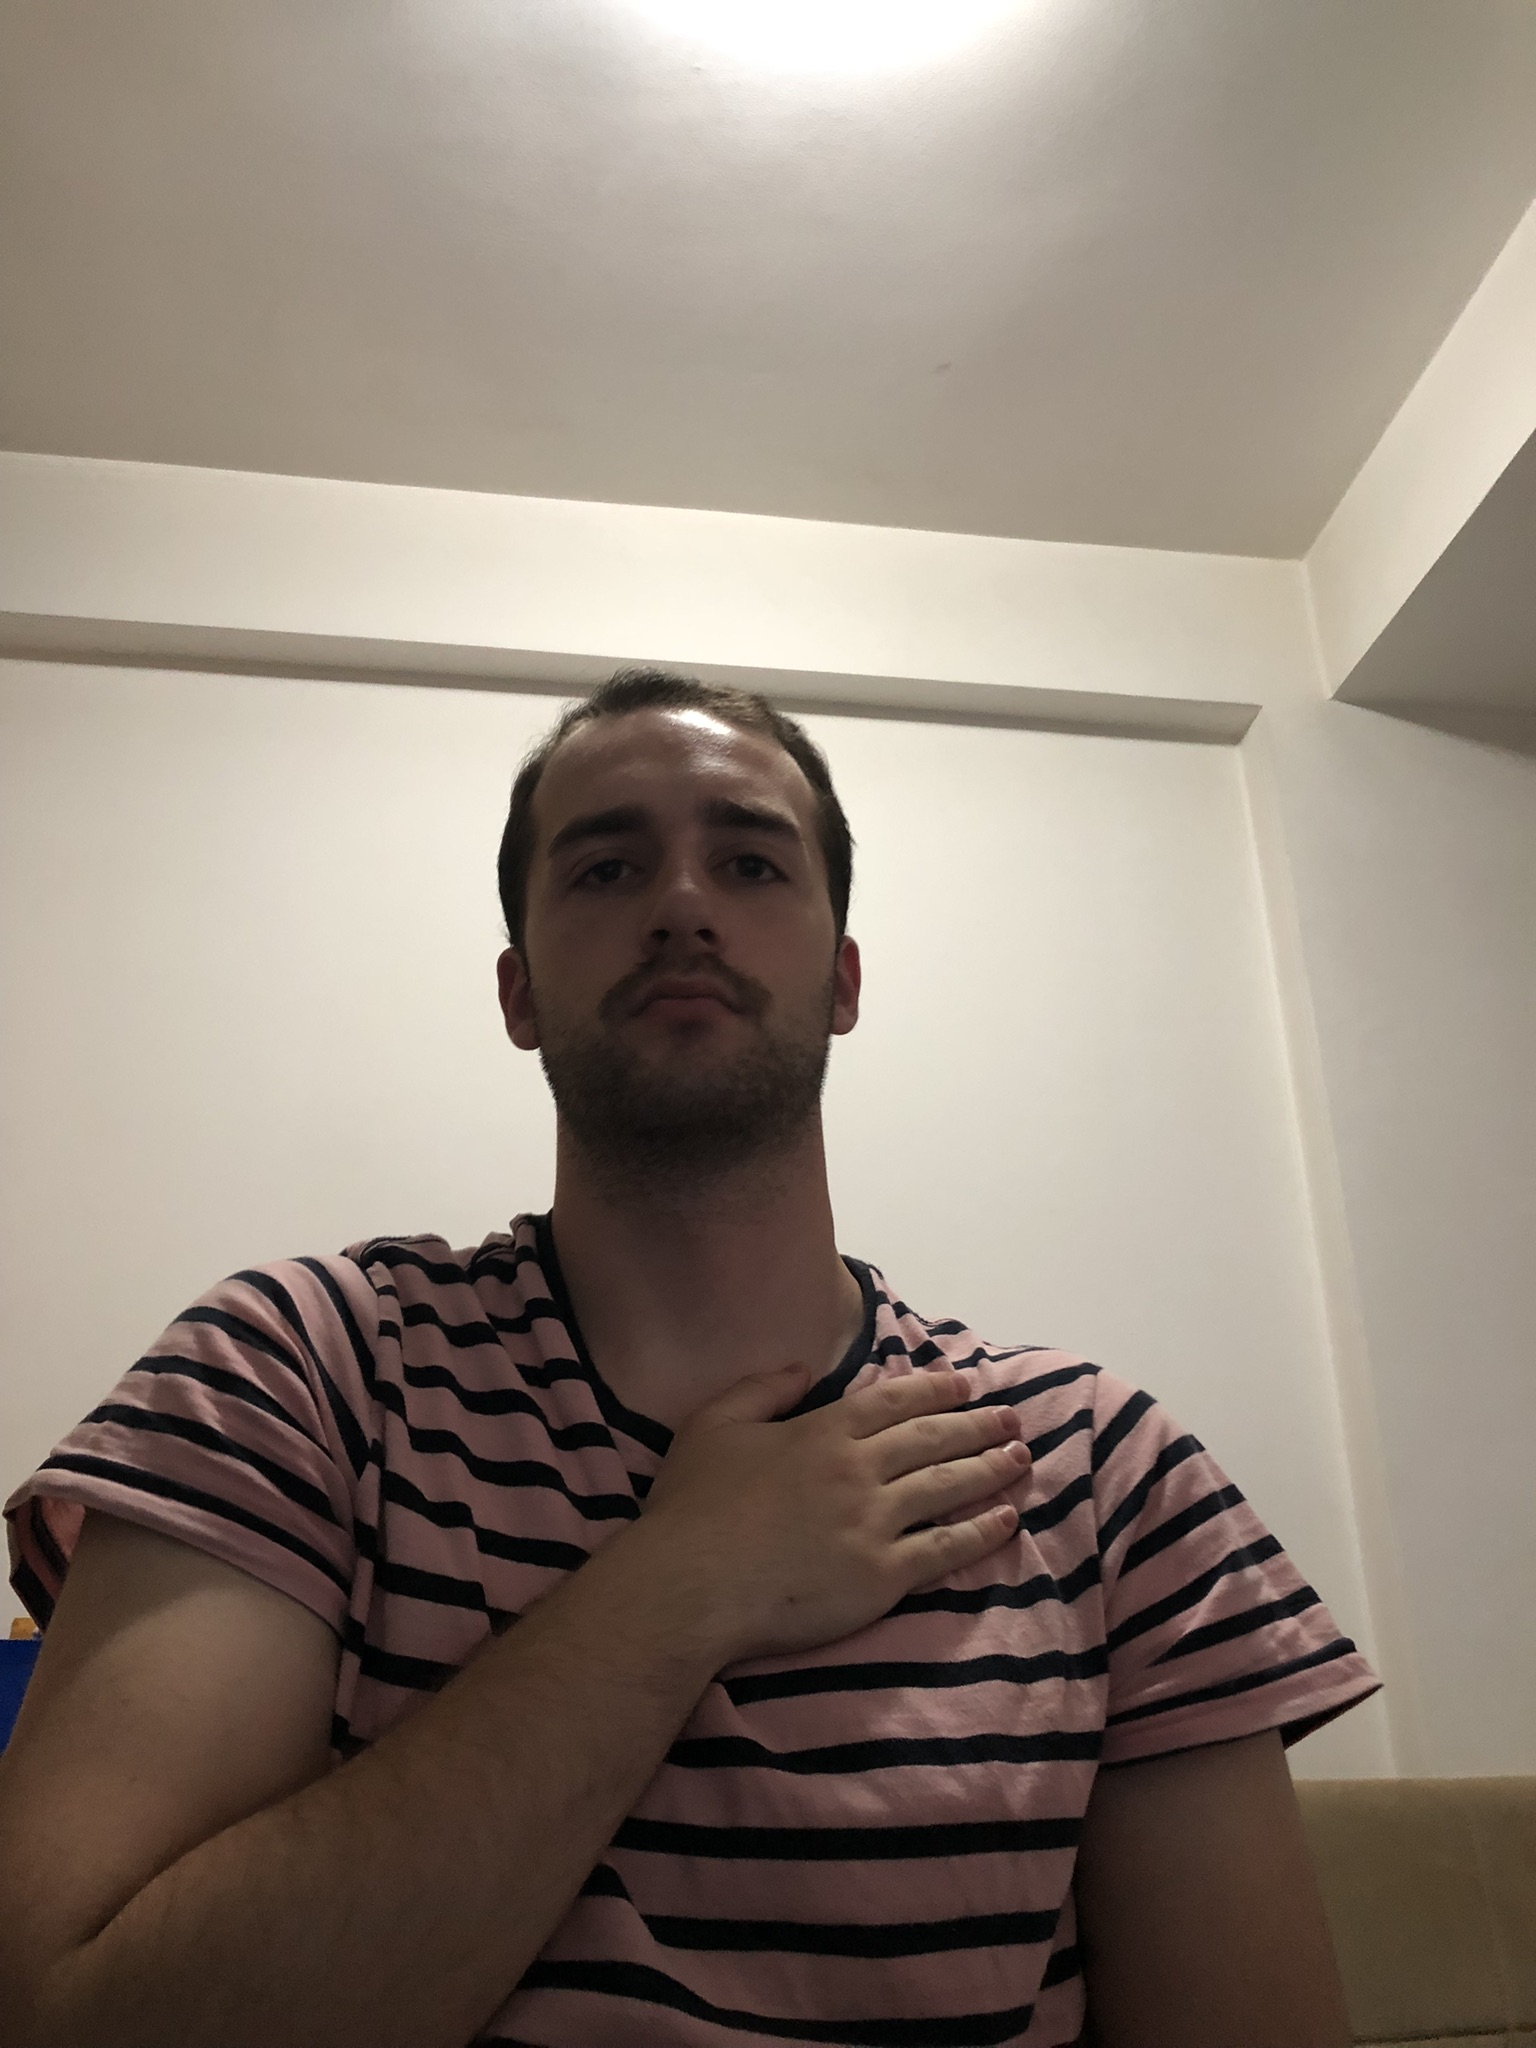Please: (23, 1361, 1041, 2048)
